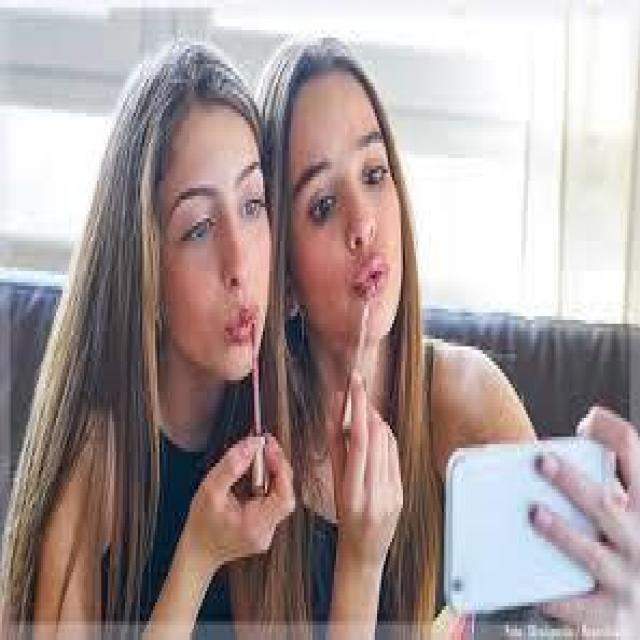person: (0, 41, 265, 636), (252, 0, 448, 636)
